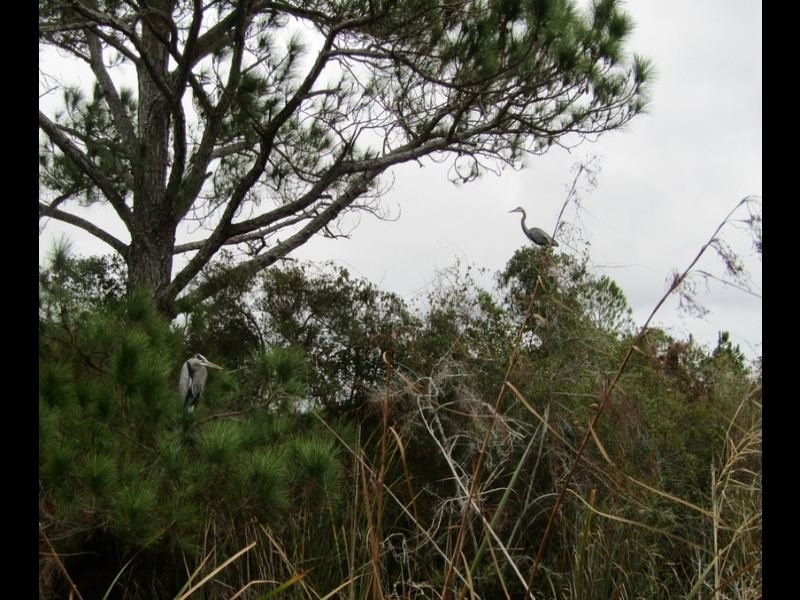heron: (179, 352, 223, 409), (507, 204, 559, 251)
